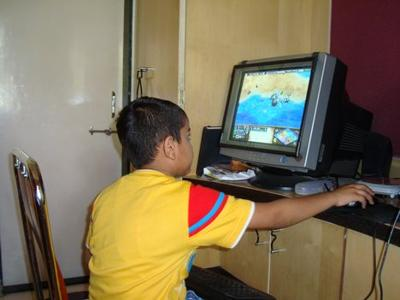person: (84, 96, 375, 300)
